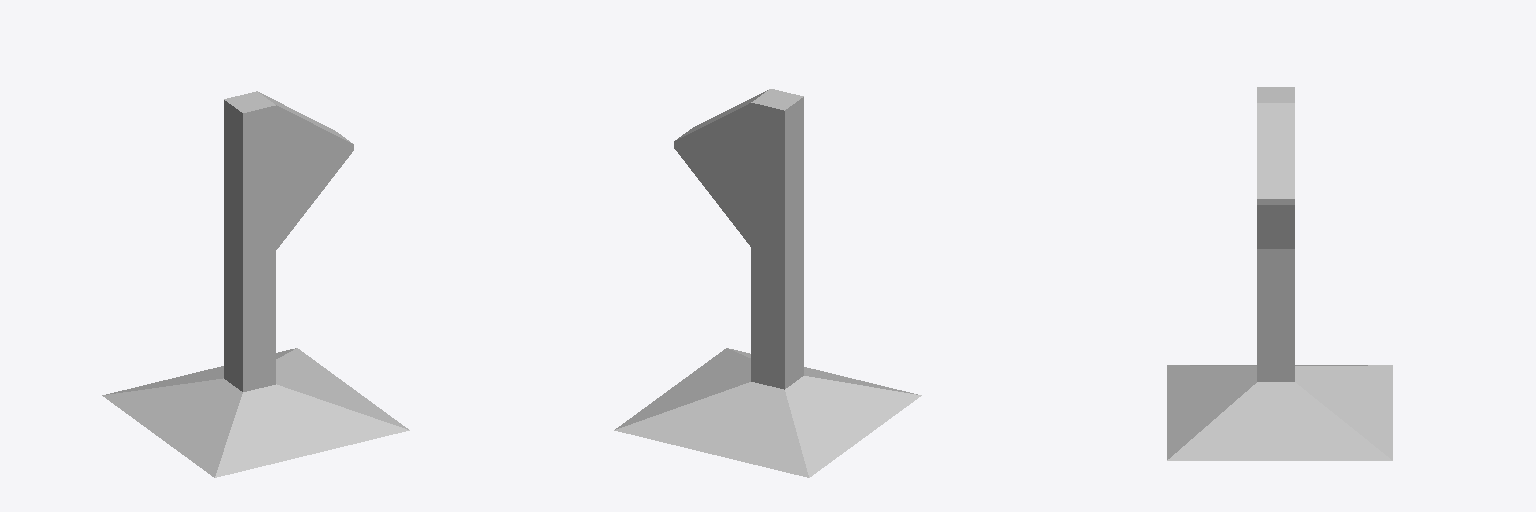
The model's file is checkPointFlag.obj.
3 views of the same model, side by side, from view 1: azimuth 30°, elevation 25°; view 2: azimuth 150°, elevation 25°; view 3: azimuth 270°, elevation 25° (orthographic).
Parts seen in each view (by area): view 1: checkPointFlag; view 2: checkPointFlag; view 3: checkPointFlag.
Part boxes in pixels (x1,y1,x2,y2): checkPointFlag: (102, 91, 409, 477); checkPointFlag: (614, 89, 921, 477); checkPointFlag: (1167, 87, 1392, 460).
Size of the model in its own units: 15 by 23.02 by 15.